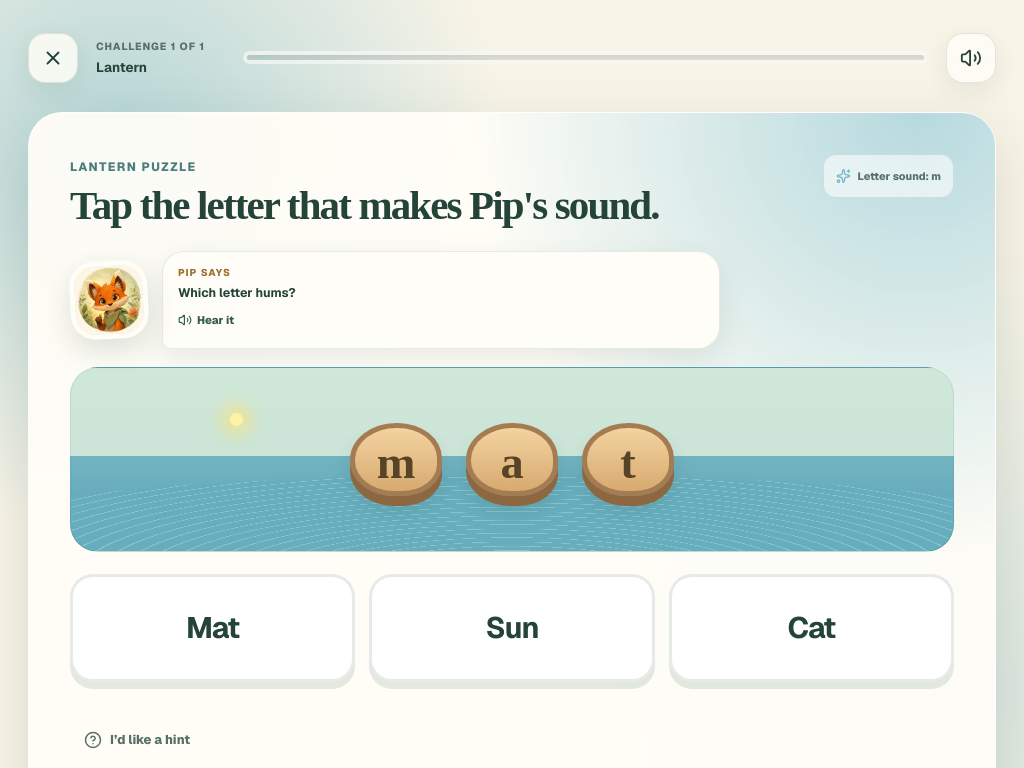
answer leakage › hides picture cues on a blending item until the answer is in
Expected: the text "🟫" is not shown
Expected: the text "☀️" is not shown
Click the button "Mat": (213, 628) [70,574,355,682]
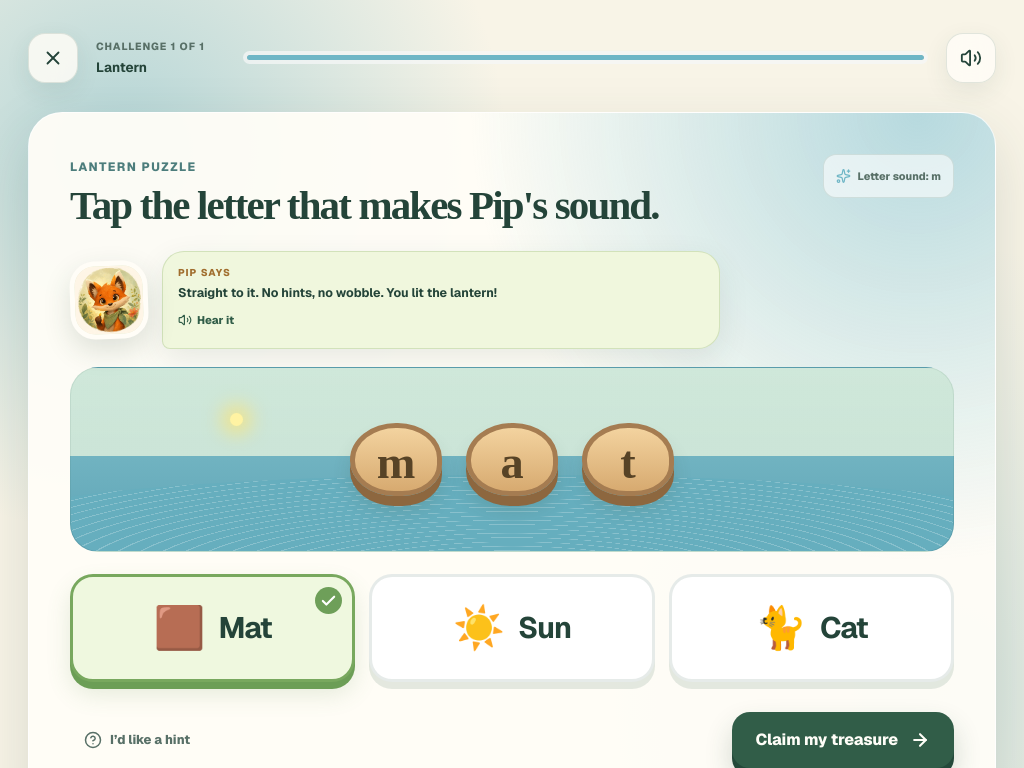
Expected: the icon "🟫" is shown, [154,607,206,649]
